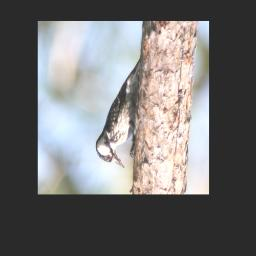Woodpecker: (95, 52, 141, 169)
